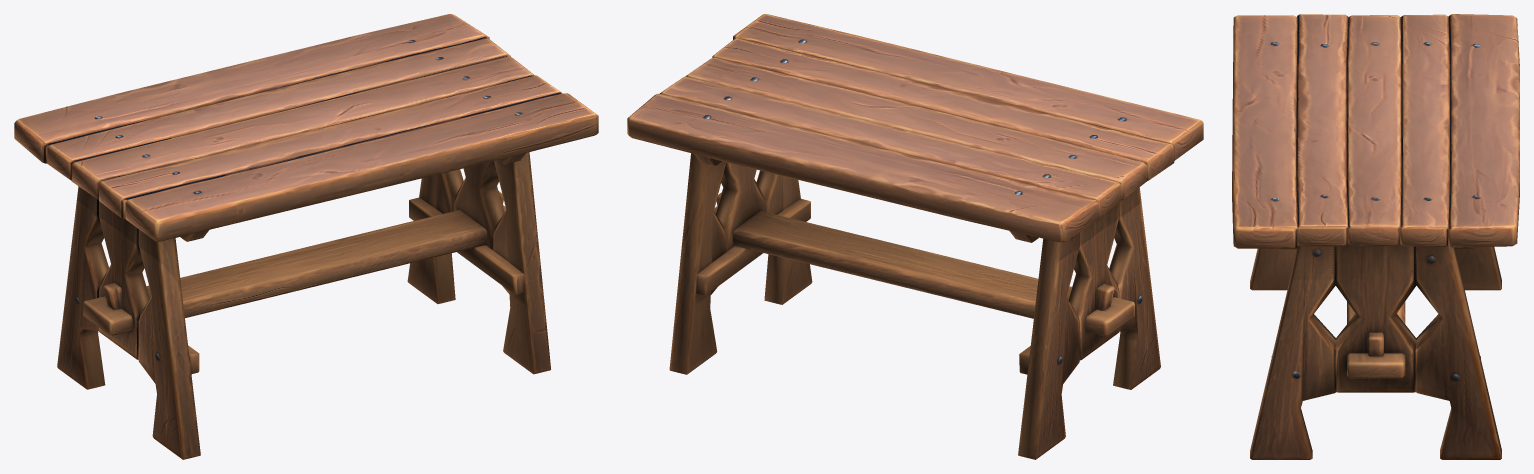
File: wooden_bench_3d_model.fbx
3 views of the same model, side by side, from view 1: azimuth 30°, elevation 25°; view 2: azimuth 150°, elevation 25°; view 3: azimuth 270°, elevation 25° (orthographic).
Visible parts, largest first — view 1: tripo_node_a76b7ebf; view 2: tripo_node_a76b7ebf; view 3: tripo_node_a76b7ebf.
Boxes of the visible parts, x1=… form: tripo_node_a76b7ebf: x1=14, y1=14, x2=598, y2=459; tripo_node_a76b7ebf: x1=627, y1=14, x2=1203, y2=459; tripo_node_a76b7ebf: x1=1232, y1=14, x2=1519, y2=459.
Size of the model in its own units: 0.9995 by 0.5396 by 0.5601.
